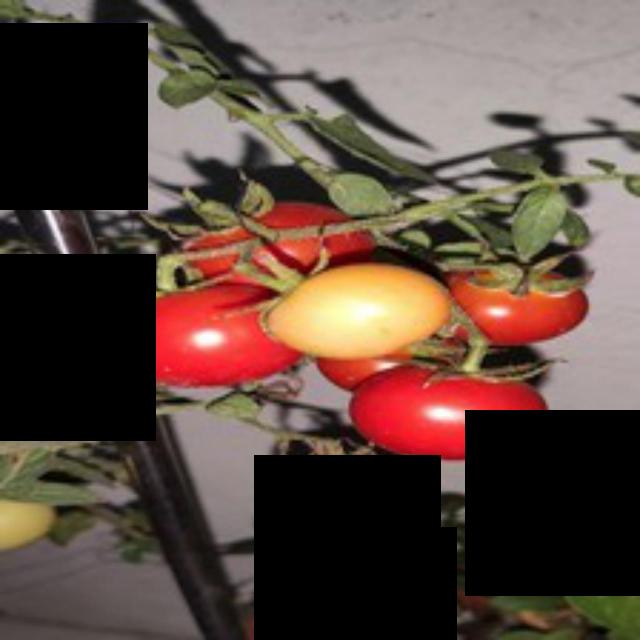tomato: (84, 277, 308, 389), (352, 346, 545, 458), (454, 236, 592, 351), (280, 444, 397, 522)
